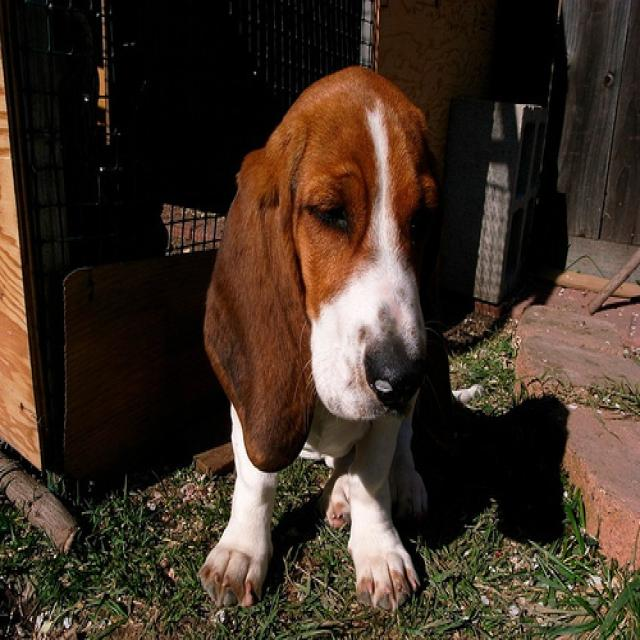dog-basset_hound: (184, 51, 460, 616)
